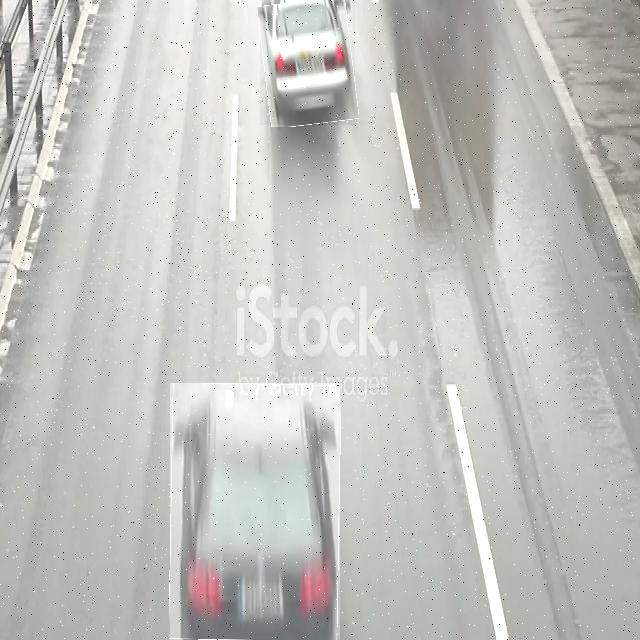Car: (170, 383, 340, 640), (260, 0, 355, 125)
